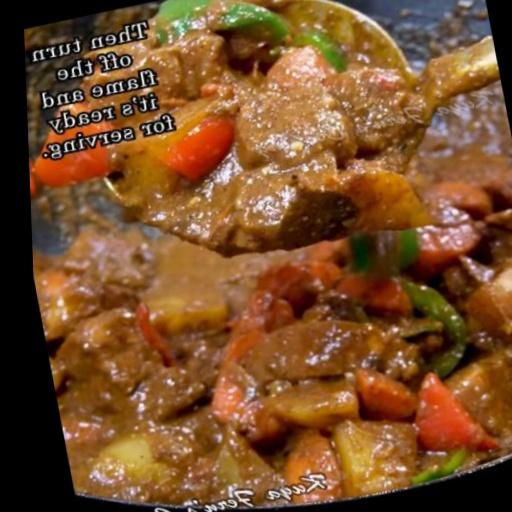pork caldereta: (32, 0, 511, 507)
